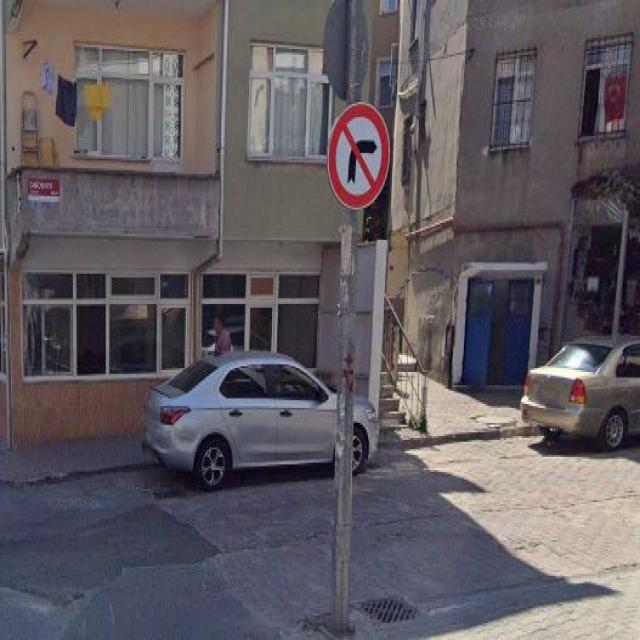sagadonulmez: (328, 102, 390, 206)
